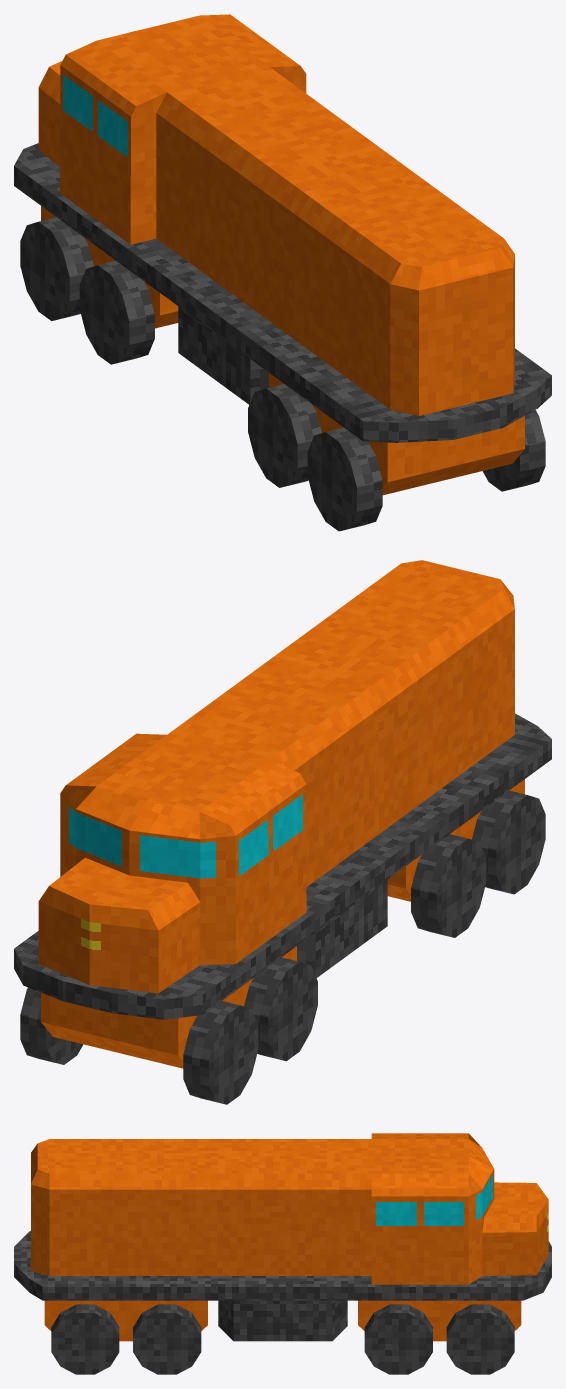
File: TeherVonat.gltf
The picture shows the model from 3 angles, top to bottom: view 1: azimuth 30°, elevation 25°; view 2: azimuth 150°, elevation 25°; view 3: azimuth 270°, elevation 25°; orthographic projection. The views are drawn at different scales.
Parts seen in each view (by area): view 1: mesh (×4), cylinder (×5); view 2: mesh (×4), cylinder (×5); view 3: mesh (×4), cylinder (×4).
Boxes of the visible parts, <box> form: mesh (×4): <box>14,14,551,495</box>; cylinder (×5): <box>20,217,545,531</box>; mesh (×4): <box>14,560,551,1068</box>; cylinder (×5): <box>20,790,545,1104</box>; mesh (×4): <box>14,1133,551,1341</box>; cylinder (×4): <box>51,1304,514,1374</box>.
Bounding box in the file's own units: 2.75 × 3.78 × 9.87.
3 materials, 3 textured.
